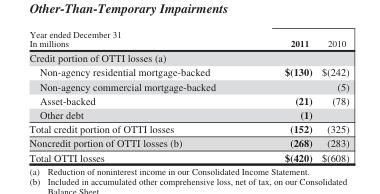table: (28, 28, 348, 162)
table column: (28, 28, 249, 162), (249, 28, 316, 162), (316, 28, 348, 162)
table column header: (28, 28, 348, 49)
table projected row header: (28, 49, 348, 64)
table row: (28, 28, 348, 49), (28, 49, 348, 64), (28, 64, 348, 79), (28, 79, 348, 93), (28, 93, 348, 107), (28, 107, 348, 121), (28, 121, 348, 135), (28, 135, 348, 149), (28, 149, 348, 162)
